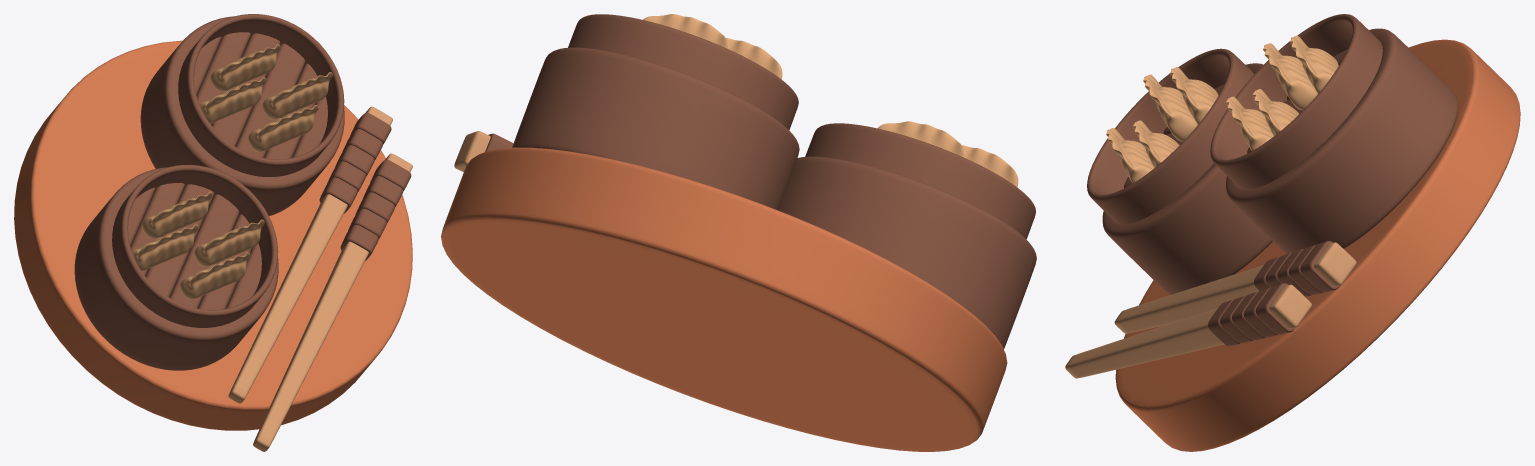
File: mandu.glb
3 views of the same model, side by side, from view 1: azimuth 30°, elevation 25°; view 2: azimuth 150°, elevation 25°; view 3: azimuth 270°, elevation 25° (orthographic). The views are drawn at different scales.
Parts seen in each view (by area): view 1: Cylinder.140, Cylinder.143, Cylinder.187, Cylinder.142, Cylinder.188, Cylinder.189, Cylinder.141, Cube.100, Cube.102, Cube.101, Cube.103, Cube.108 (+7 smaller); view 2: Cylinder.140, Cylinder.187, Cylinder.143, Cylinder.142, Cylinder.188, Cube.104, Cube.108, Cube.099, Cube.107, Cube.102; view 3: Cylinder.140, Cylinder.187, Cylinder.188, Cylinder.143, Cylinder.142, Cube.100, Cube.102, Cube.101, Cube.103, Cube.107, Cube.099, Cube.108 (+5 smaller).
Part boxes in pixels (x1,y1,x2,y2): Cylinder.140: (14,40,412,430); Cylinder.143: (74,167,278,370); Cylinder.187: (140,16,344,216); Cylinder.142: (112,164,278,327); Cylinder.188: (178,14,344,176); Cylinder.189: (194,32,327,159); Cylinder.141: (128,183,261,309); Cube.100: (253,153,412,451); Cube.102: (228,106,392,403); Cube.101: (340,159,411,260); Cube.103: (319,113,391,213); Cube.108: (210,44,280,91); Cylinder.140: (441,147,1007,451); Cylinder.187: (512,47,799,210); Cylinder.143: (778,156,1036,349); Cylinder.142: (805,123,1035,239); Cylinder.188: (568,14,798,129); Cube.104: (877,121,966,158); Cube.108: (643,14,730,50); Cube.099: (962,145,1018,187); Cube.107: (726,38,782,79); Cube.102: (454,131,490,172); Cylinder.140: (1115,39,1520,451); Cylinder.187: (1226,28,1458,254); Cylinder.188: (1210,14,1382,189); Cylinder.143: (1102,63,1272,294); Cylinder.142: (1087,48,1254,224); Cube.100: (1065,284,1311,378); Cube.102: (1114,242,1356,333); Cube.101: (1208,283,1294,346); Cube.103: (1254,241,1340,296); Cube.107: (1263,43,1317,110); Cube.099: (1143,74,1197,141); Cube.108: (1290,35,1338,93).
Bounding box in the file's own units: 2.82 × 2.56 × 2.54.
